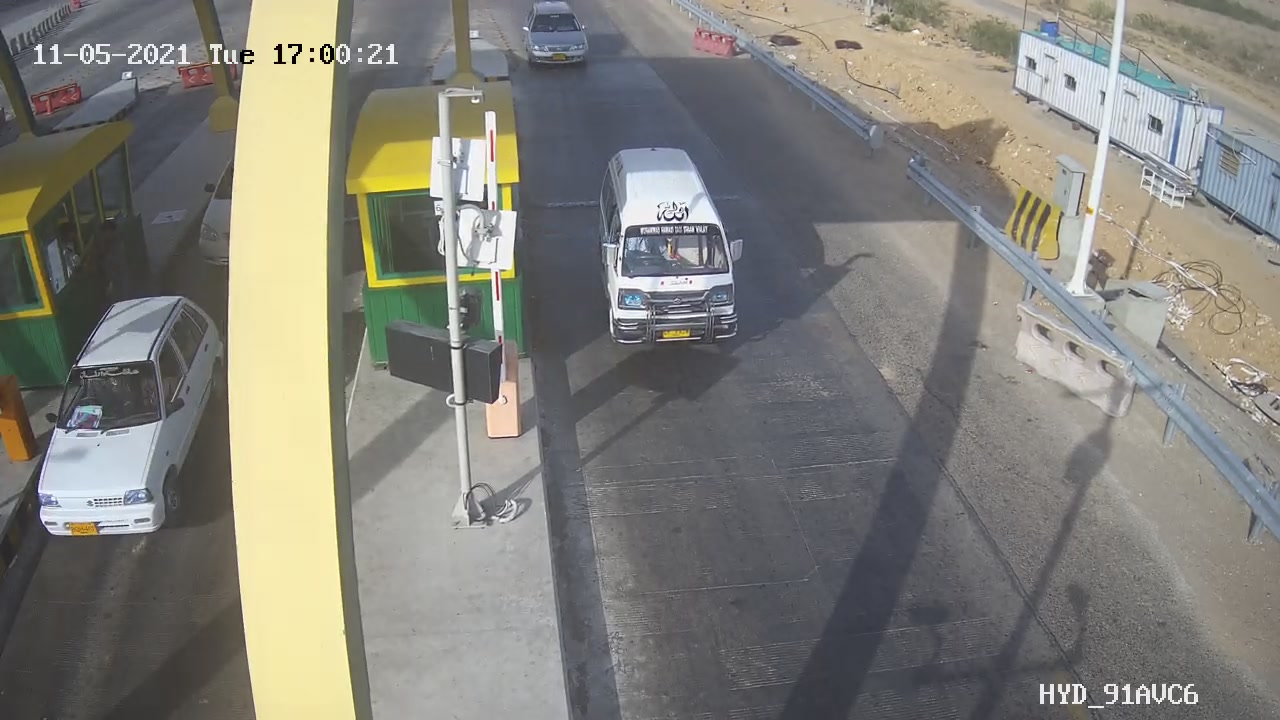F1: (578, 127, 760, 366)
